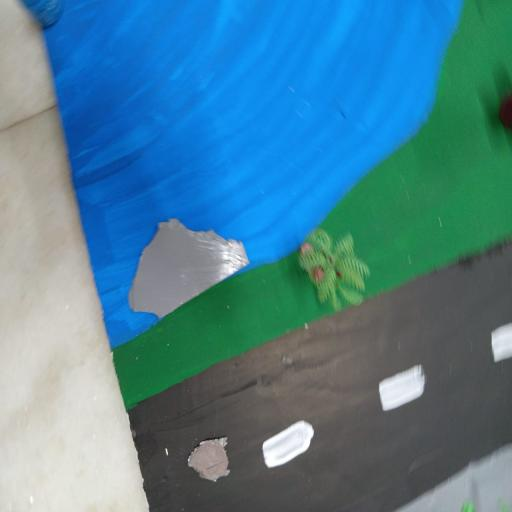encroachment: (122, 212, 258, 330)
